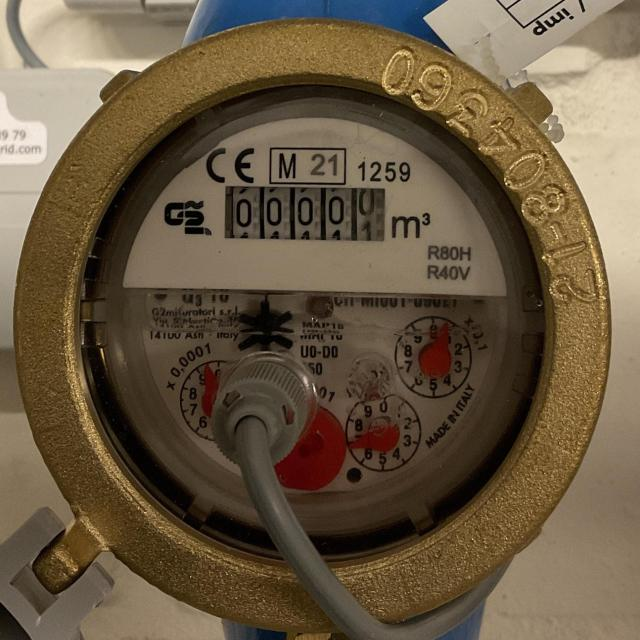gaz_meter: (96, 99, 540, 548)
indication: (226, 185, 384, 240)
